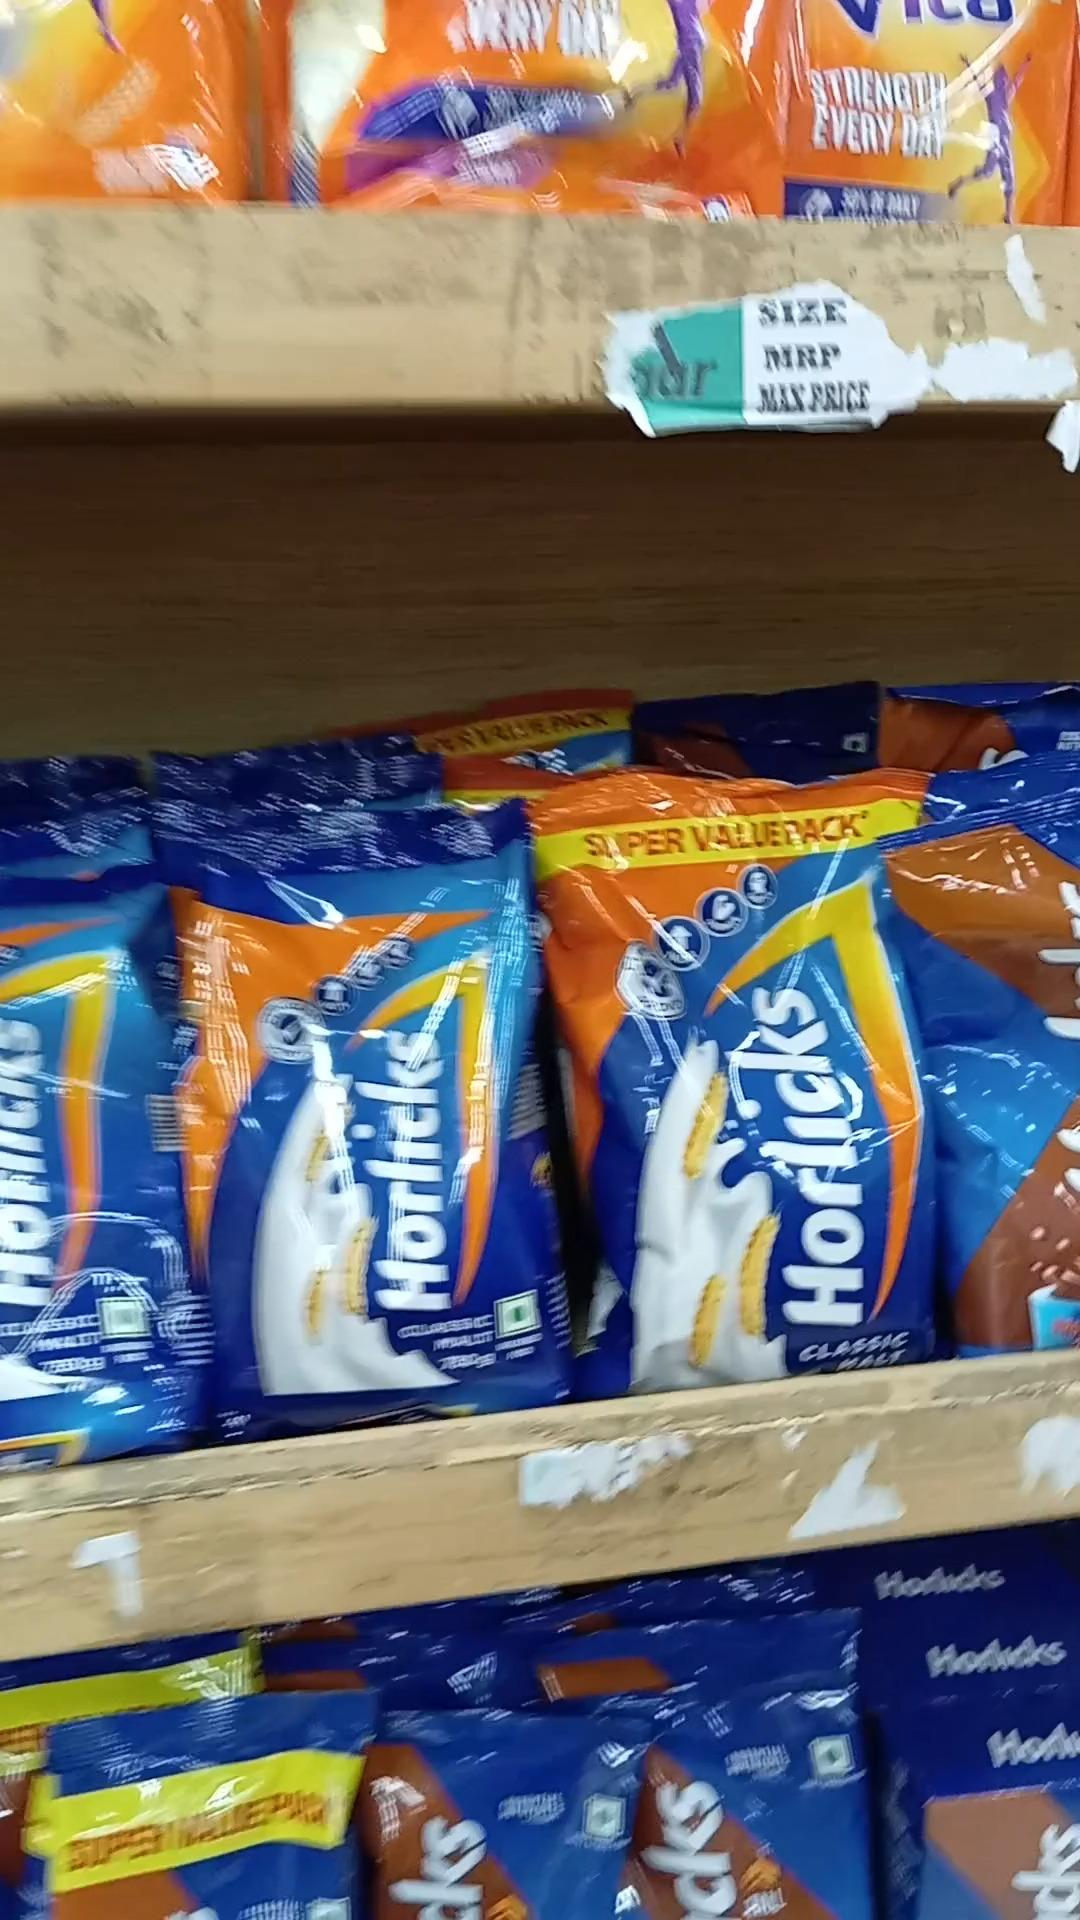HORLICK_CLASSIC_MALT_750_G_POUCH: (194, 827, 550, 1418)
